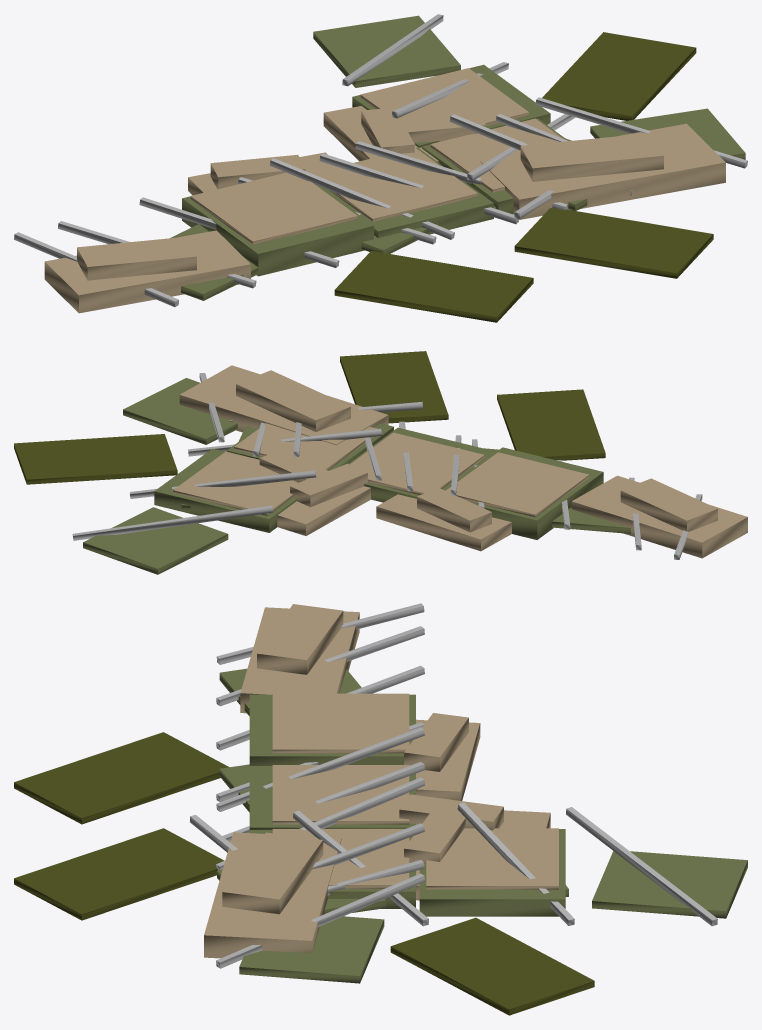
Rendered from SM_HescoRemateEspejo_v4_Red_e3_Brecha_LOD0.fbx.
3 renders of one model, top to bottom at view 1: azimuth 30°, elevation 25°; view 2: azimuth 150°, elevation 25°; view 3: azimuth 270°, elevation 25°, orthographic. The views are drawn at different scales.
Parts seen in each view (by area): view 1: SM_hesco_piezas_v39_LOD0; view 2: SM_hesco_piezas_v39_LOD0; view 3: SM_hesco_piezas_v39_LOD0.
Part boxes in pixels (x1,y1,x2,y2): SM_hesco_piezas_v39_LOD0: [14, 14, 747, 322]; SM_hesco_piezas_v39_LOD0: [14, 351, 747, 574]; SM_hesco_piezas_v39_LOD0: [14, 603, 747, 1015].
Size of the model in its own units: 6.75 by 0.3263 by 5.38.
